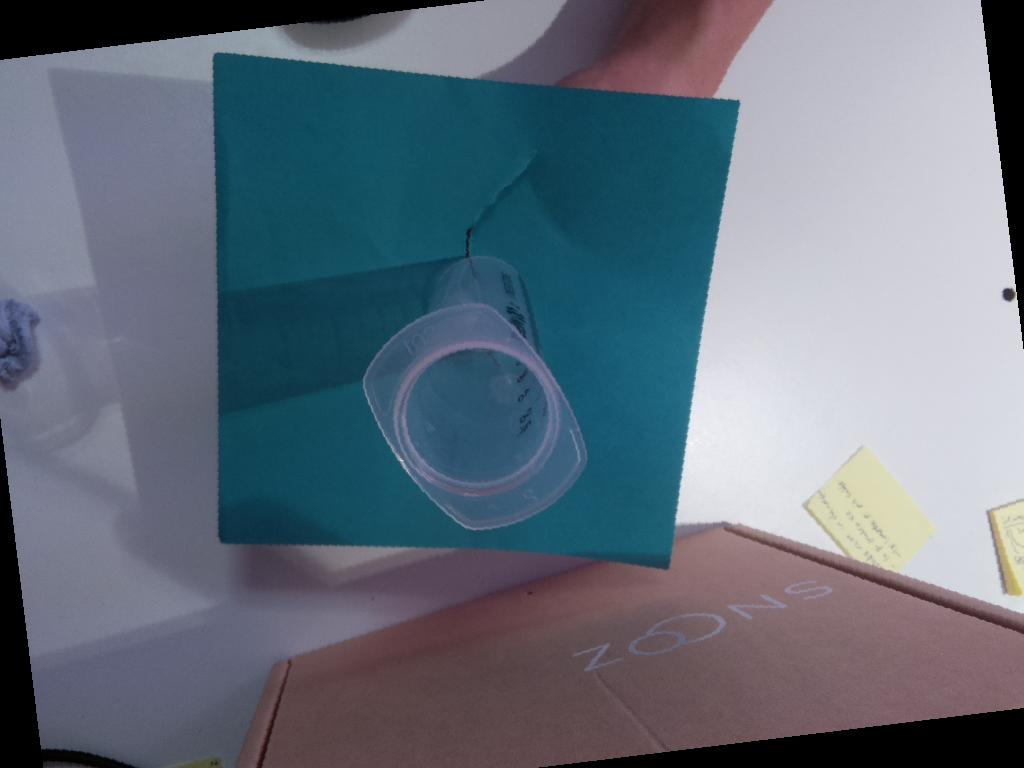clean: (360, 299, 591, 534)
